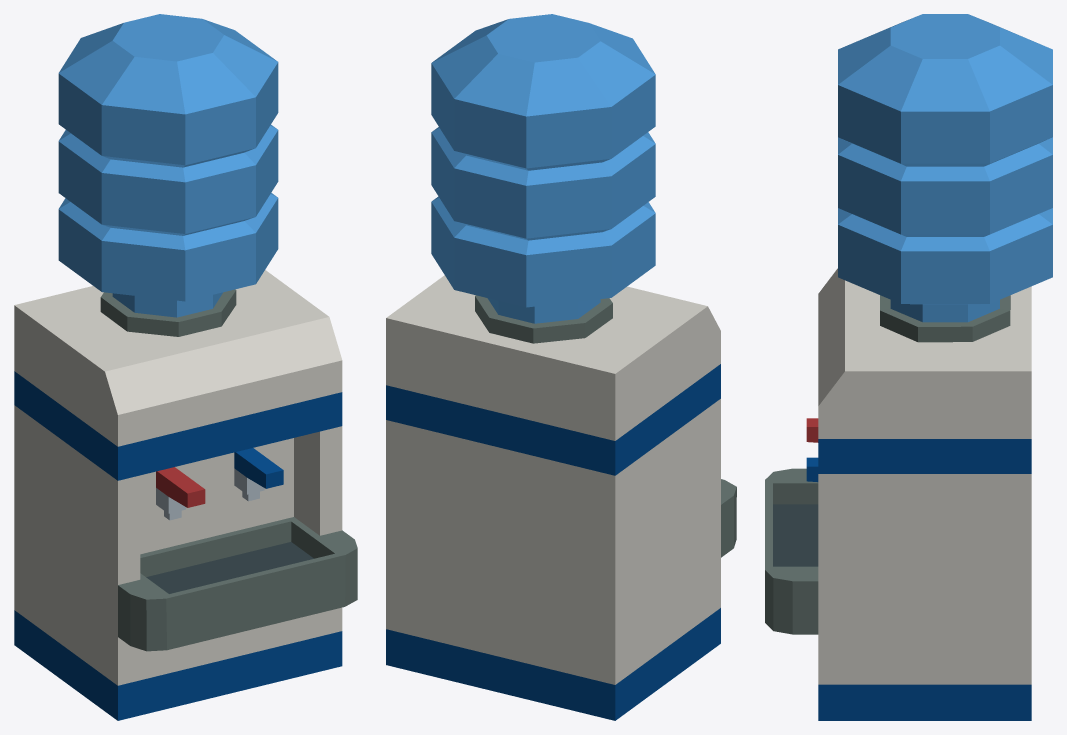
Rendered from Water_dispenser.glb.
3 renders of one model, left to right at view 1: azimuth 30°, elevation 25°; view 2: azimuth 150°, elevation 25°; view 3: azimuth 270°, elevation 25°, orthographic. The views are drawn at different scales.
Visible parts, largest first — view 1: Water dispenser; view 2: Water dispenser; view 3: Water dispenser.
Boxes of the visible parts, bbox=[...] form: Water dispenser: bbox=[14, 14, 357, 720]; Water dispenser: bbox=[386, 14, 736, 720]; Water dispenser: bbox=[765, 14, 1052, 720].
Size of the model in its own units: 0.616 by 1.6 by 0.6647.
